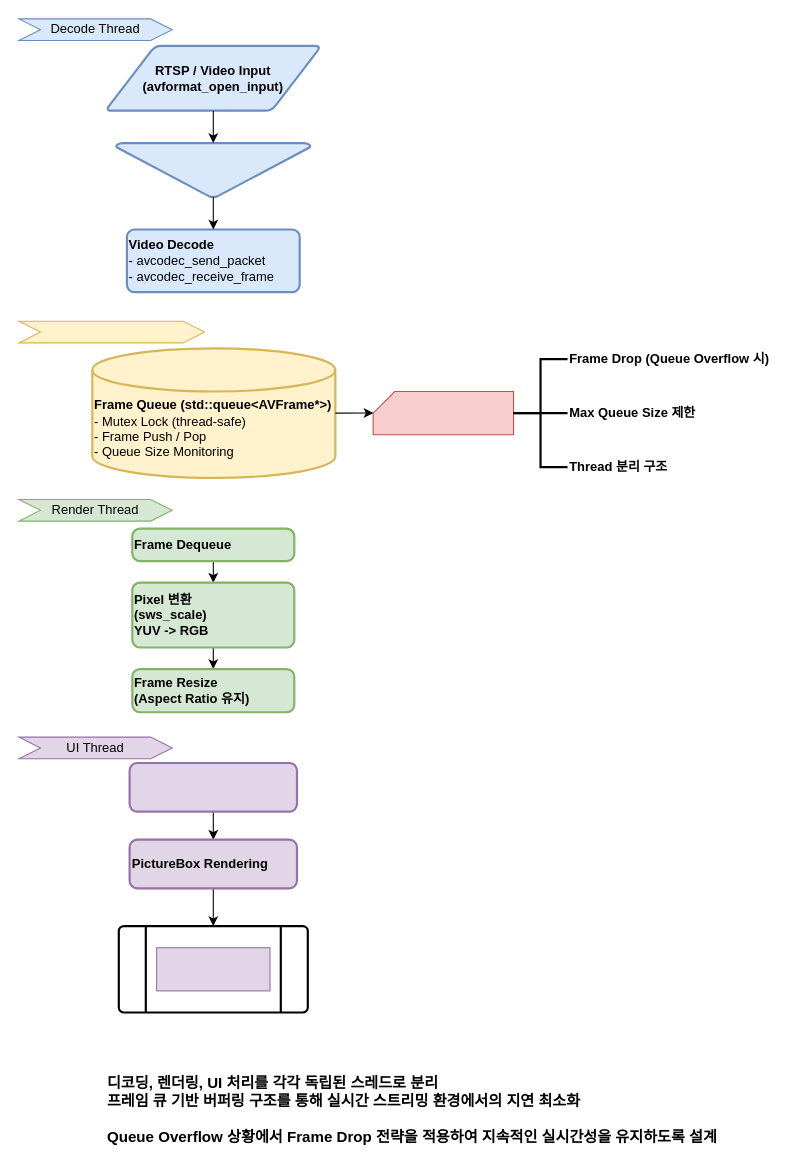
Image size: 794x1166. Some labels were removed from this diagram. Here are the shapes that lost their labels. From the top down, the centre of each, then its label:
At [212,169]: "Packet Read (av_read_frame)".
At [111,331]: "Frame Buffer (Shared".
At [443,412]: "Delay / Buffing Issue 발생 지점".
At [213,786]: "Bitmap 변환".
At [213,969]: "FPS 계산 & Display".
